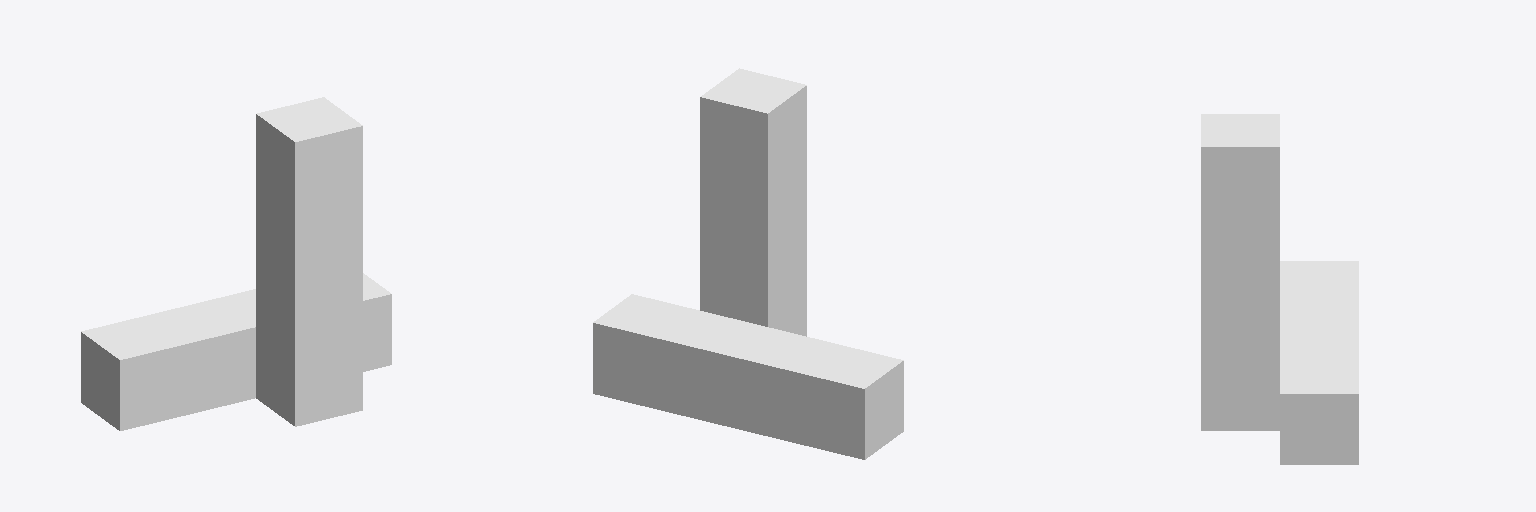
The model's file is SH_Items-1-Ammo_Long.obj.
3 renders of one model, left to right at view 1: azimuth 30°, elevation 25°; view 2: azimuth 150°, elevation 25°; view 3: azimuth 270°, elevation 25°, orthographic.
Parts seen in each view (by area): view 1: Ammo_Long; view 2: Ammo_Long; view 3: Ammo_Long.
Boxes of the visible parts, <box> form: Ammo_Long: <box>81,97,391,430</box>; Ammo_Long: <box>593,68,903,459</box>; Ammo_Long: <box>1201,114,1358,464</box>.
Bounding box in the file's own units: 0.4 × 0.4 × 0.2.